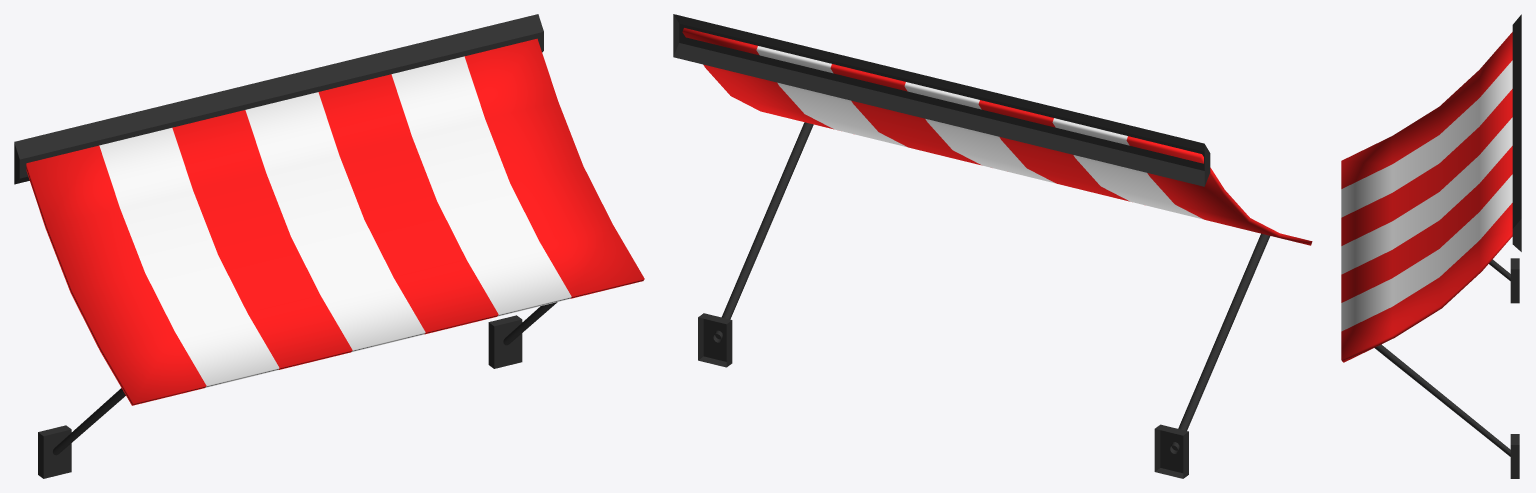
The model's file is Tenda1.FBX.
3 renders of one model, left to right at view 1: azimuth 30°, elevation 25°; view 2: azimuth 150°, elevation 25°; view 3: azimuth 270°, elevation 25°, orthographic. The views are drawn at different scales.
Parts seen in each view (by area): view 1: Tenda1; view 2: Tenda1; view 3: Tenda1.
Part boxes in pixels (<box>): Tenda1: <box>14,14,644,478</box>; Tenda1: <box>673,14,1312,478</box>; Tenda1: <box>1341,14,1521,478</box>.
Bounding box in the file's own units: 128 × 78.47 × 47.61.
